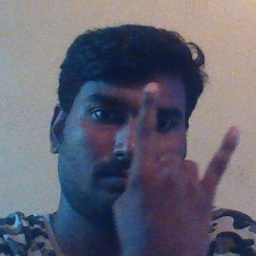V: (111, 78, 242, 256)
